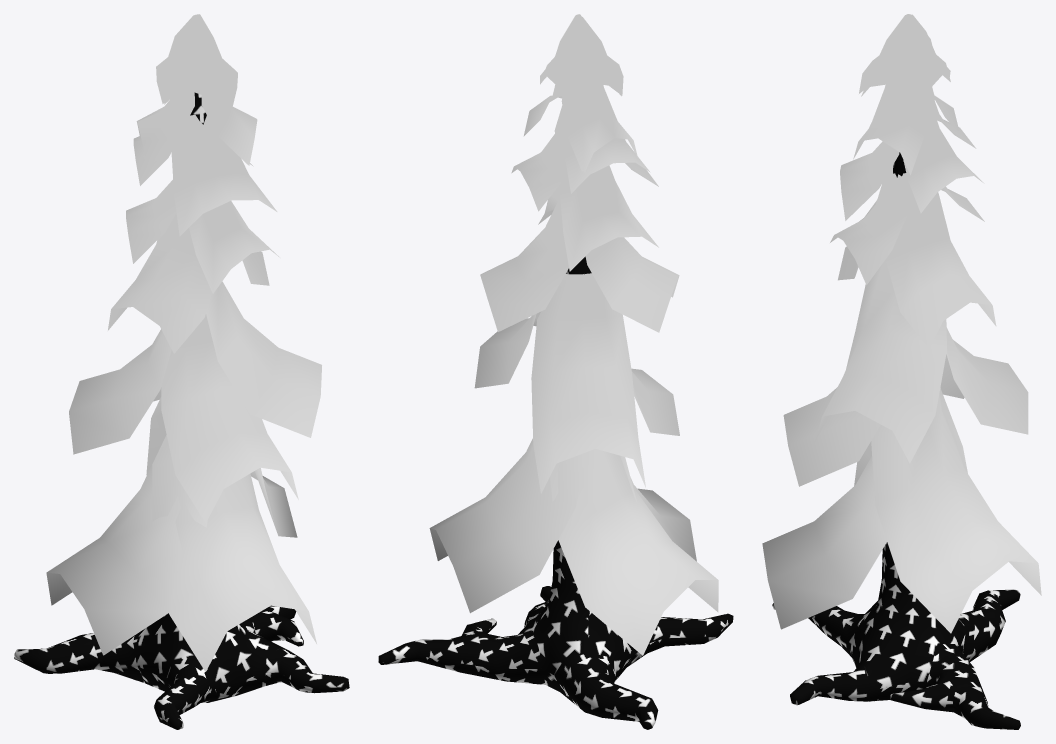
Rendered from SM_PineTree2.fbx.
3 renders of one model, left to right at view 1: azimuth 30°, elevation 25°; view 2: azimuth 150°, elevation 25°; view 3: azimuth 270°, elevation 25°, orthographic.
Parts seen in each view (by area): view 1: PineLeaves2, PineTree2; view 2: PineLeaves2, PineTree2; view 3: PineLeaves2, PineTree2.
Part boxes in pixels (x1,y1,x2,y2): PineLeaves2: (46,14,321,671); PineTree2: (14,92,349,729); PineLeaves2: (429,14,718,655); PineTree2: (378,256,733,729); PineLeaves2: (762,14,1041,633); PineTree2: (772,152,1020,729).
Bounding box in the file's own units: 459 × 1069 × 406.
